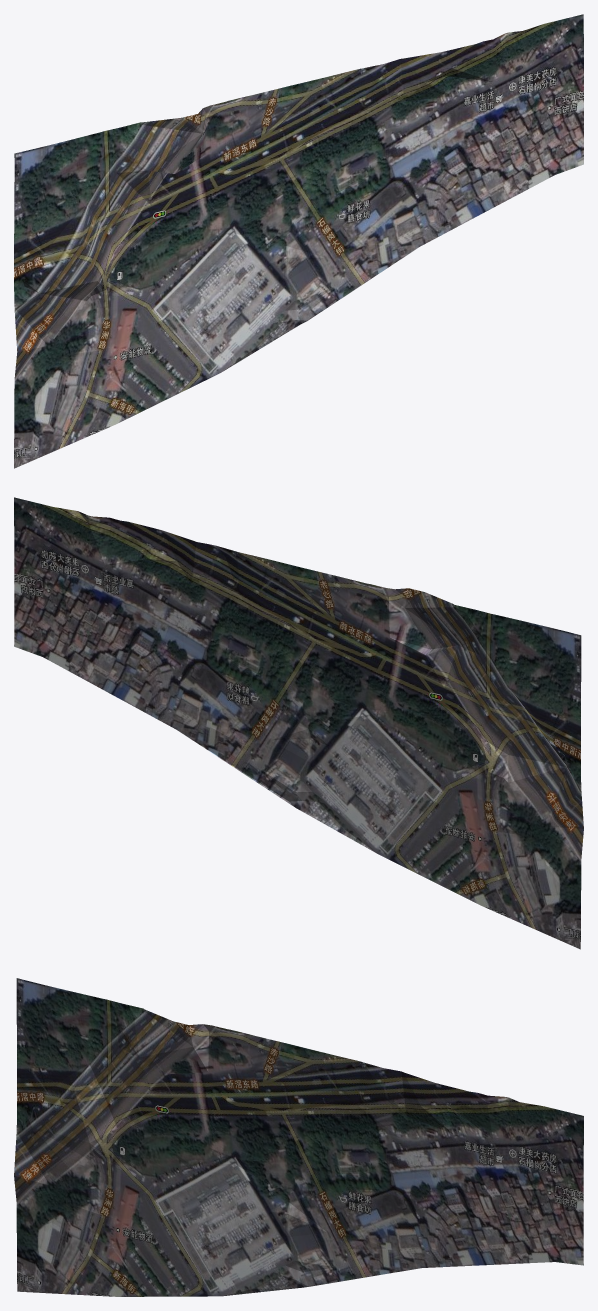
3 views of the same model, one above another, from view 1: azimuth 30°, elevation 25°; view 2: azimuth 150°, elevation 25°; view 3: azimuth 330°, elevation 25° (orthographic).
Visible parts, largest first — view 1: 0_2_2_0_1_1; view 2: 0_2_2_0_1_1; view 3: 0_2_2_0_1_1.
Part boxes in pixels (x1,y1,x2,y2): 0_2_2_0_1_1: (14, 14, 583, 468); 0_2_2_0_1_1: (14, 497, 583, 949); 0_2_2_0_1_1: (14, 978, 583, 1296).
Size of the model in its own units: 486 by 257 by 9.62.
1 material, 1 textured.
